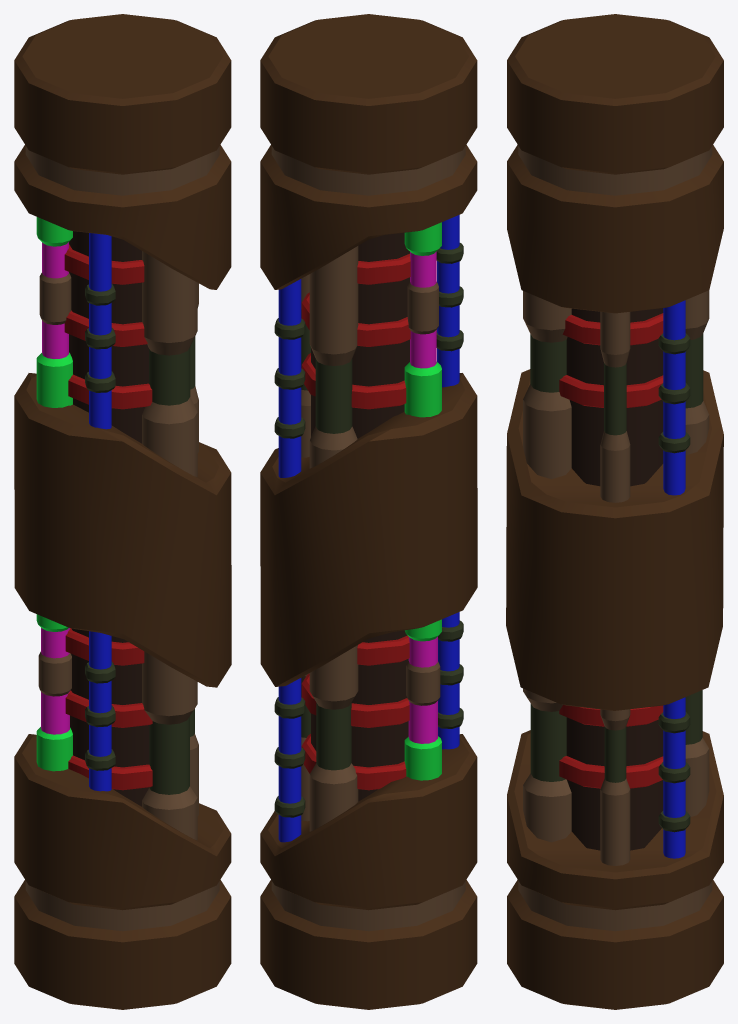
File: OBJ_Pilier.fbx
3 renders of one model, left to right at view 1: azimuth 30°, elevation 25°; view 2: azimuth 150°, elevation 25°; view 3: azimuth 270°, elevation 25°, orthographic.
Visible parts, largest first — view 1: OBJ_Pilier; view 2: OBJ_Pilier; view 3: OBJ_Pilier.
Part boxes in pixels (x1,y1,x2,y2): OBJ_Pilier: (14, 14, 231, 1009); OBJ_Pilier: (260, 14, 477, 1009); OBJ_Pilier: (506, 14, 723, 1009).
Bounding box in the file's own units: 2800 × 12971 × 2811.
